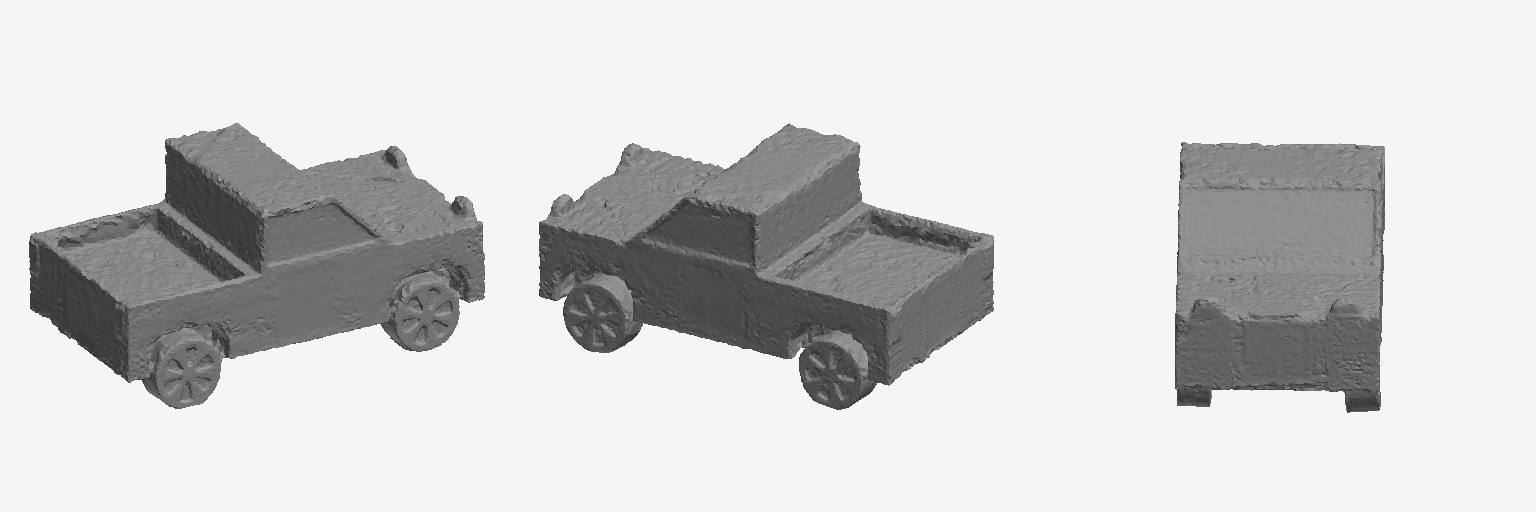
Rendered from car_2-2_005_render.obj.
3 views of the same model, side by side, from view 1: azimuth 30°, elevation 25°; view 2: azimuth 150°, elevation 25°; view 3: azimuth 270°, elevation 25° (orthographic).
Parts seen in each view (by area): view 1: car_2-2_005_render; view 2: car_2-2_005_render; view 3: car_2-2_005_render.
Boxes of the visible parts, x1=… form: car_2-2_005_render: x1=29, y1=123, x2=484, y2=408; car_2-2_005_render: x1=539, y1=123, x2=993, y2=409; car_2-2_005_render: x1=1175, y1=142, x2=1384, y2=412.
Size of the model in its own units: 0.1218 by 0.0585 by 0.0617.